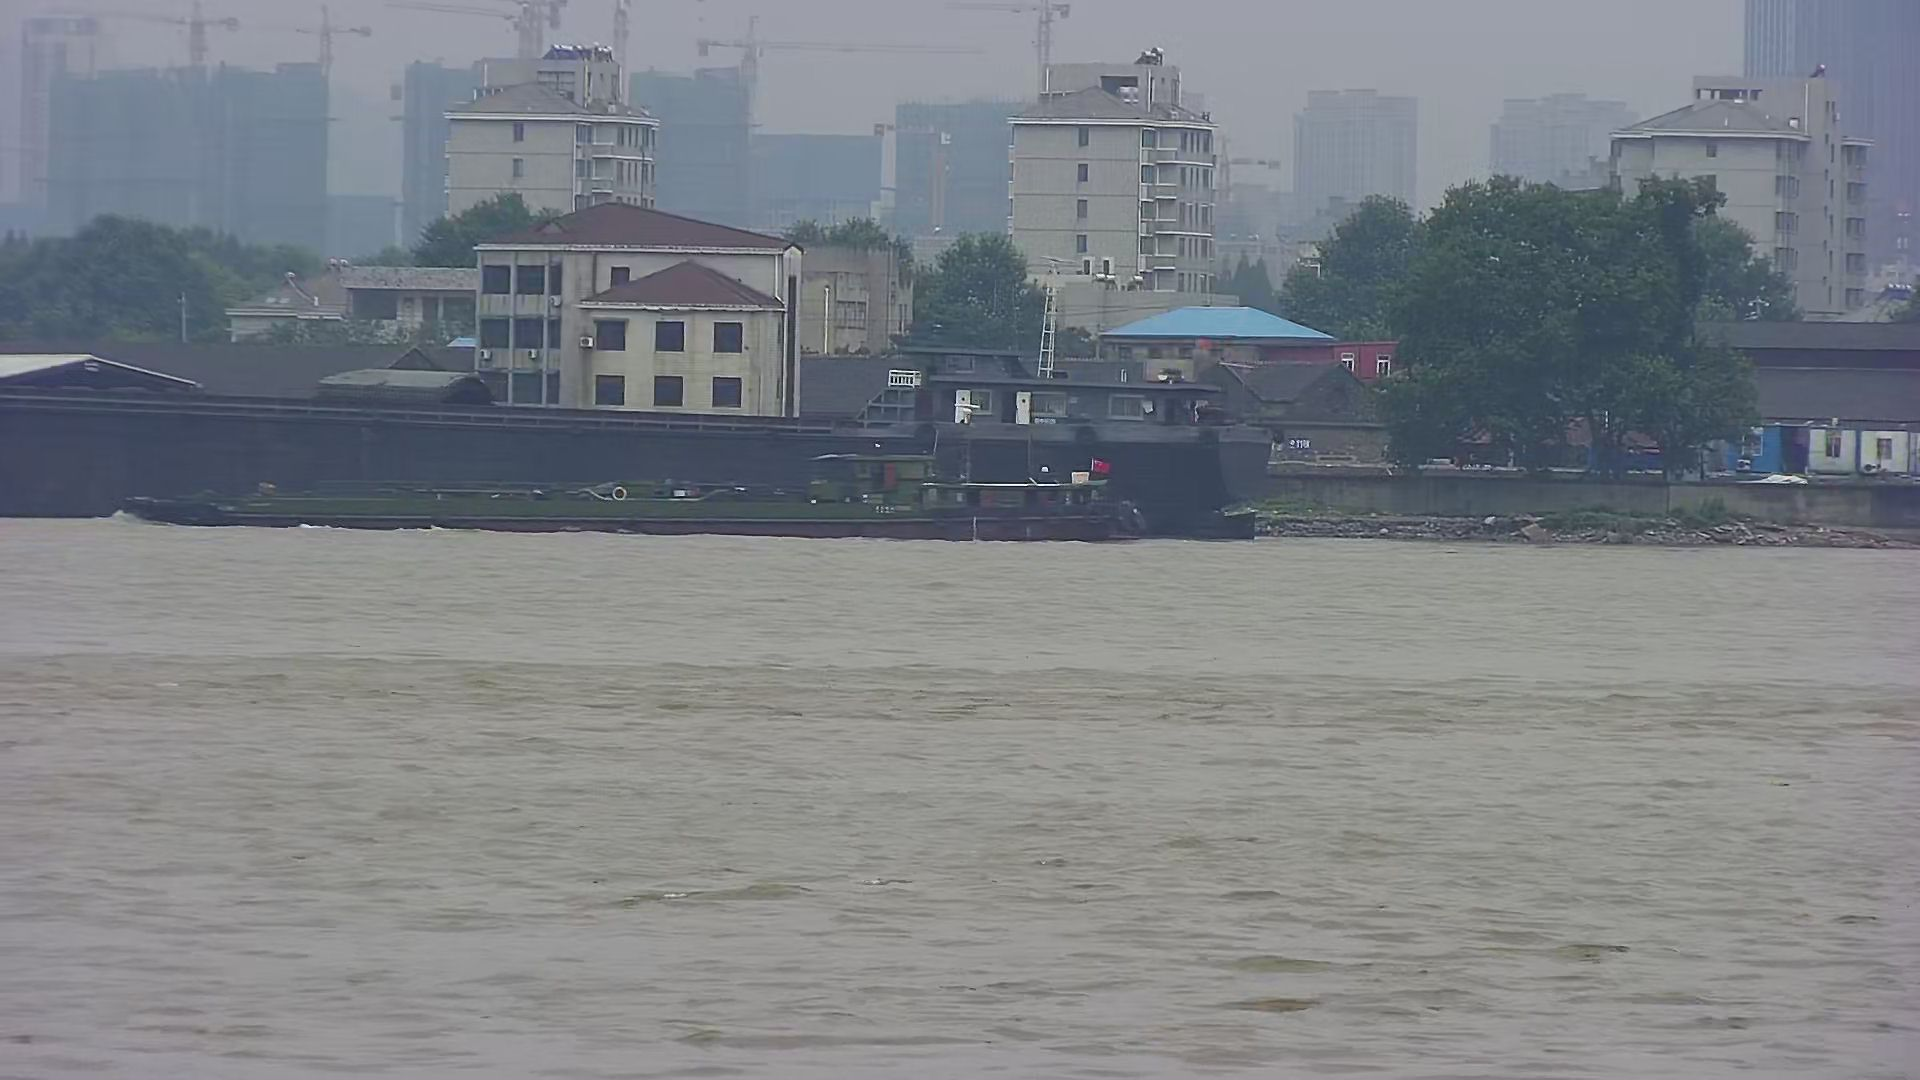ship: (1, 345, 1282, 551), (105, 421, 1171, 545)
